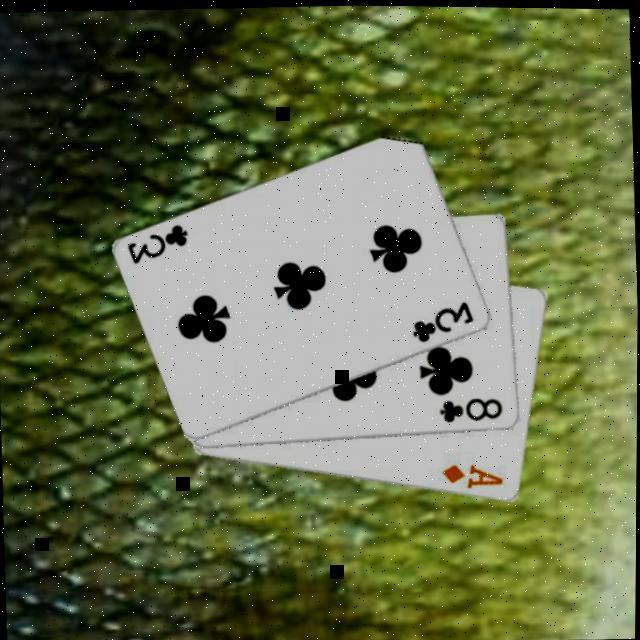3C: (408, 294, 478, 342), (122, 218, 191, 265)
8C: (436, 390, 505, 423)
AD: (438, 456, 507, 489)
